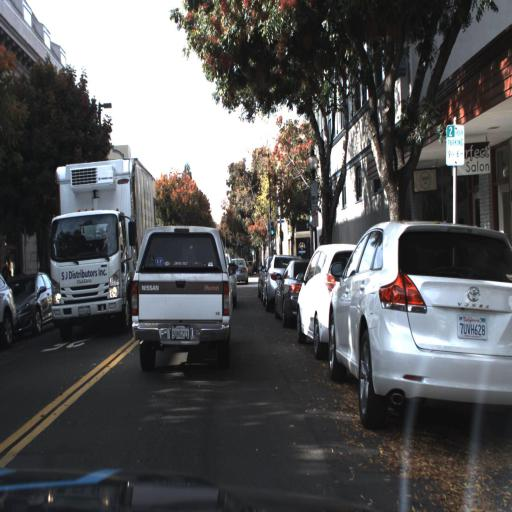car: (323, 212, 511, 445), (45, 153, 163, 346), (122, 212, 242, 380), (290, 239, 368, 354), (275, 257, 304, 331), (222, 242, 243, 307), (262, 254, 286, 308), (235, 255, 250, 283)
trafficLight-Green: (267, 218, 277, 240)
truck: (47, 160, 156, 342)
